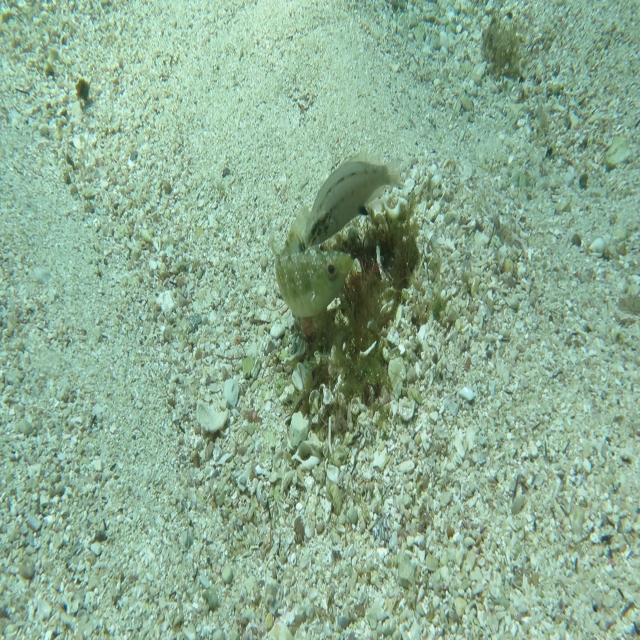DAN_CIRC: (274, 204, 352, 320)
core_nest: (359, 239, 405, 285)
female: (304, 147, 405, 247)
nest: (284, 170, 435, 442)
